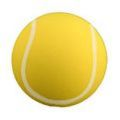tennis ball: (10, 11, 108, 108)
